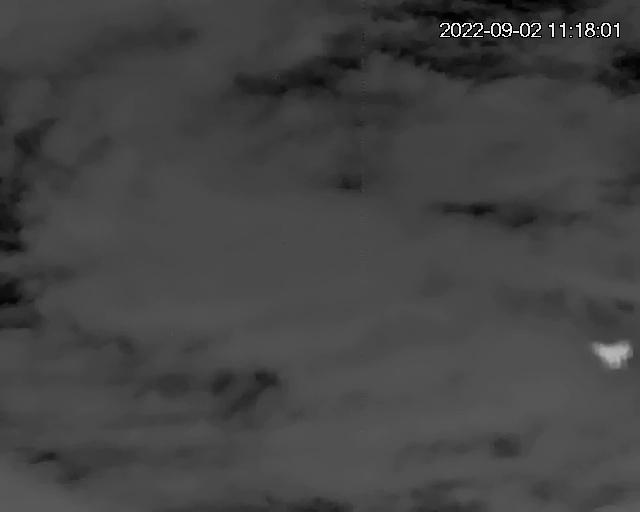DJI-Phantom: (591, 339, 636, 371)
